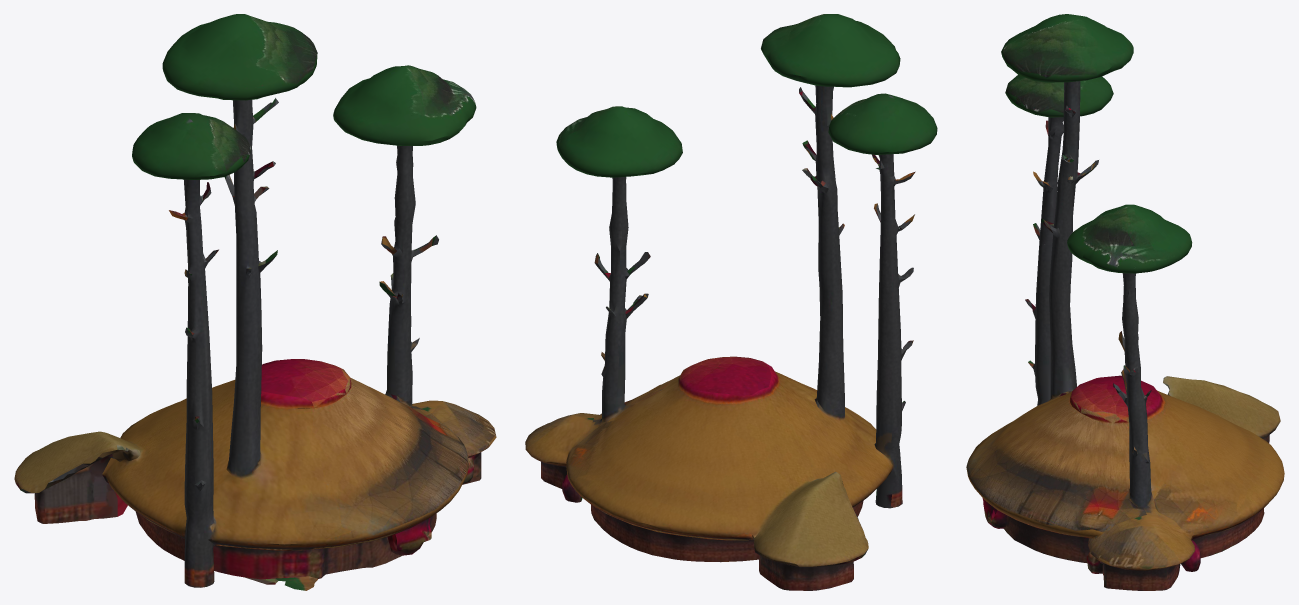
Rendered from mapuches_rewe_monte.glb.
The picture shows the model from 3 angles, left to right: view 1: azimuth 30°, elevation 25°; view 2: azimuth 150°, elevation 25°; view 3: azimuth 270°, elevation 25°; orthographic projection. The views are drawn at different scales.
Visible parts, largest first — view 1: geometry_0; view 2: geometry_0; view 3: geometry_0.
Part boxes in pixels (x1,y1,x2,y2): geometry_0: (14, 14, 496, 590); geometry_0: (525, 14, 937, 590); geometry_0: (966, 14, 1284, 590).
Bounding box in the file's own units: 3.4 × 4.2 × 2.62.
1 material, 1 textured.
